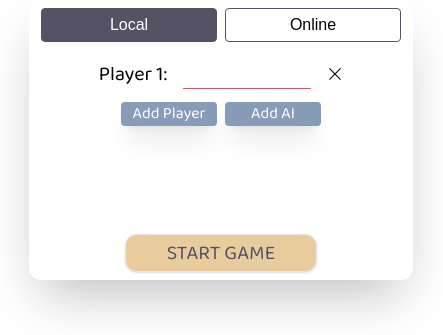
Test case: Home component › renders GameModeCard and deletes a player in Local
Type "Player 1" into the field labelled "Player 1:". click: [247, 74]
box: [183, 60, 311, 88]
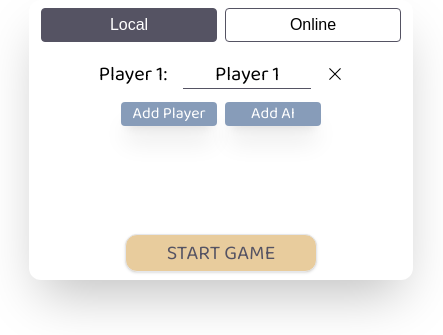
Click the button "Add Player". click: [169, 114]
box: [121, 102, 217, 126]
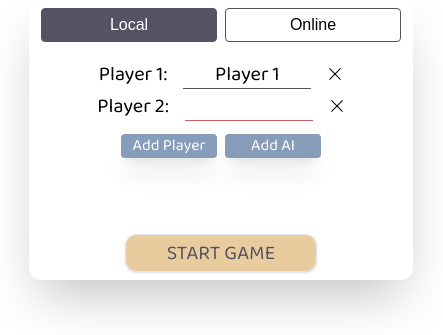
Click the button with test id "remove-player-button-0". click: [335, 74]
box: [327, 66, 343, 82]
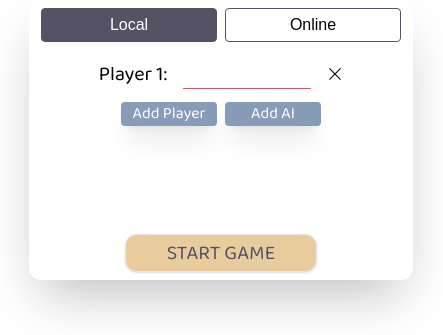
Check: the label labelled "Player 2:" is gone
